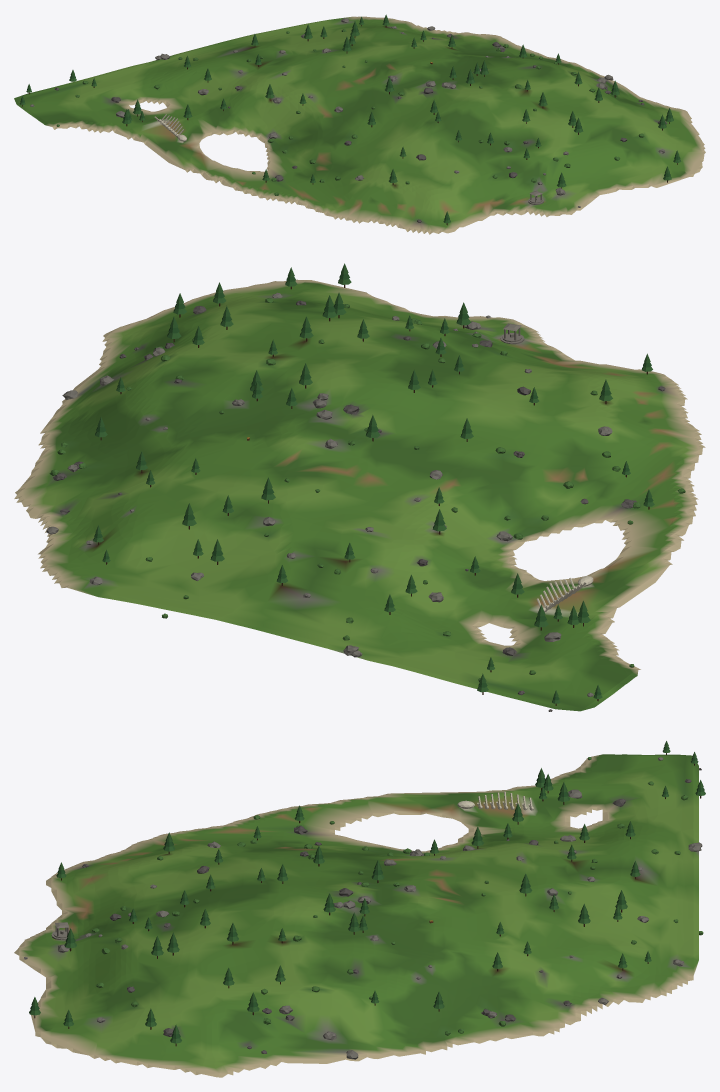
File: arch_isl_coil_isle_lod1.glb
The picture shows the model from 3 angles, top to bottom: view 1: azimuth 30°, elevation 25°; view 2: azimuth 150°, elevation 25°; view 3: azimuth 270°, elevation 25°; orthographic projection. The views are drawn at different scales.
Visible parts, largest first — view 1: geometry_0; view 2: geometry_0; view 3: geometry_0.
Boxes of the visible parts, x1,y1,x2,y2 form: geometry_0: (14,14,705,234); geometry_0: (14,263,705,711); geometry_0: (14,741,705,1077).
Size of the model in its own units: 284 by 30.18 by 259.
